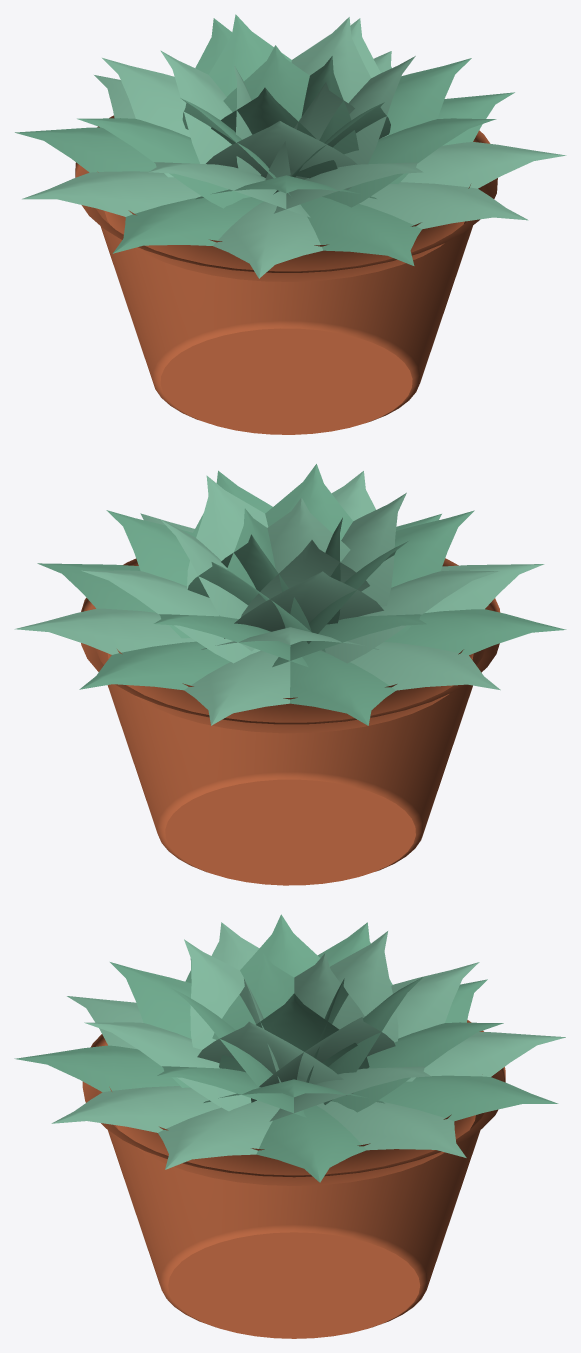
Rendered from succulent_terracotta_M.glb.
The picture shows the model from 3 angles, top to bottom: view 1: azimuth 30°, elevation 25°; view 2: azimuth 150°, elevation 25°; view 3: azimuth 270°, elevation 25°; orthographic projection.
Parts seen in each view (by area): view 1: Echeveria Succulent (terracotta, M); view 2: Echeveria Succulent (terracotta, M); view 3: Echeveria Succulent (terracotta, M).
Boxes of the visible parts, left/top/right/bottom form: Echeveria Succulent (terracotta, M): left=15, top=14, right=566, bottom=434; Echeveria Succulent (terracotta, M): left=14, top=464, right=566, bottom=885; Echeveria Succulent (terracotta, M): left=14, top=914, right=565, bottom=1338.
Bounding box in the file's own units: 0.1637 × 0.103 × 0.1632.
